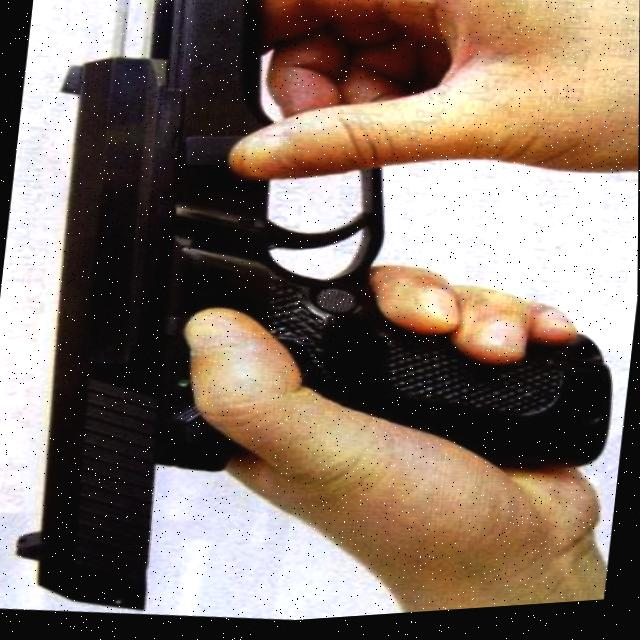pistol: (4, 0, 640, 640)
